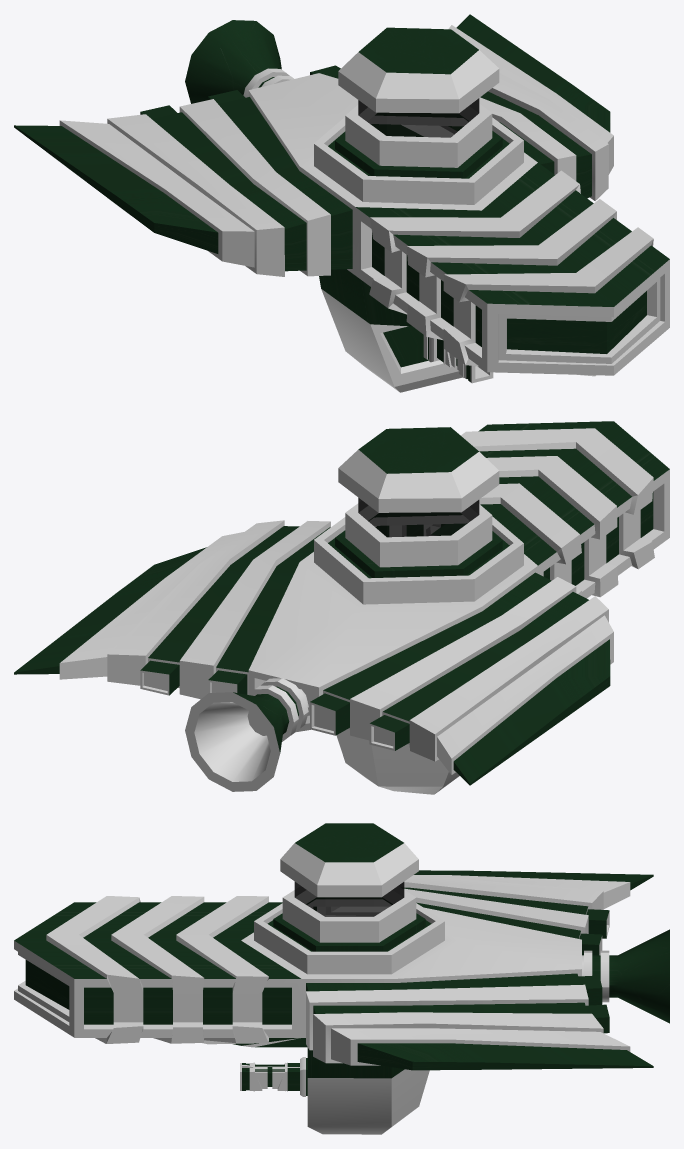
File: DDB.fbx
3 views of the same model, one above another, from view 1: azimuth 30°, elevation 25°; view 2: azimuth 150°, elevation 25°; view 3: azimuth 270°, elevation 25° (orthographic). The views are drawn at different scales.
Parts seen in each view (by area): view 1: DDB; view 2: DDB; view 3: DDB.
Part boxes in pixels (bbox=[...]): DDB: bbox=[14, 14, 669, 392]; DDB: bbox=[14, 421, 669, 794]; DDB: bbox=[14, 823, 669, 1134].
Size of the model in its own units: 6.01 by 4.06 by 8.7.
